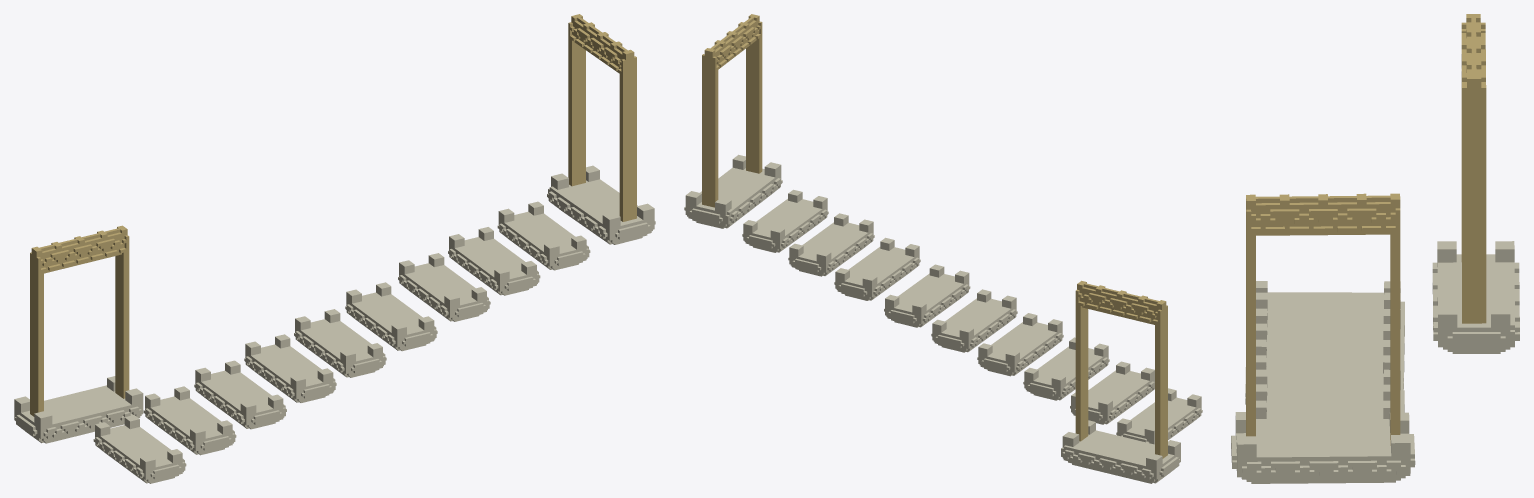
3 renders of one model, left to right at view 1: azimuth 30°, elevation 25°; view 2: azimuth 150°, elevation 25°; view 3: azimuth 270°, elevation 25°, orthographic. The views are drawn at different scales.
Visible parts, largest first — view 1: 台阶_门框002, 台阶_门框, default004, default006, default010, default005, default008, default007, default003, default009, default034; view 2: 台阶_门框002, 台阶_门框, default007, default009, default010, default008, default005, default006, default003, default004, default034; view 3: 台阶_门框, 台阶_门框002, default003, default005, default006, default009, default004, default008, default007, default010, default034.
Boxes of the visible parts, <box> form: 台阶_门框002: <box>14,225,143,443</box>; 台阶_门框: <box>547,14,655,244</box>; default004: <box>194,360,286,429</box>; default006: <box>294,309,386,377</box>; default010: <box>497,201,590,270</box>; default005: <box>244,334,336,402</box>; default008: <box>398,253,490,321</box>; default007: <box>345,282,437,351</box>; default003: <box>143,386,236,455</box>; default009: <box>448,227,540,295</box>; default034: <box>93,415,186,483</box>; 台阶_门框002: <box>1061,280,1180,483</box>; 台阶_门框: <box>684,14,782,228</box>; default007: <box>884,264,970,327</box>; default009: <box>788,213,874,276</box>; default010: <box>742,189,828,252</box>; default008: <box>834,237,920,300</box>; default005: <box>977,313,1063,376</box>; default006: <box>931,289,1017,352</box>; default003: <box>1070,361,1154,424</box>; default004: <box>1023,337,1109,400</box>; default034: <box>1116,388,1202,444</box>; 台阶_门框: <box>1231,193,1415,483</box>; 台阶_门框002: <box>1432,14,1519,353</box>; default003: <box>1256,292,1404,336</box>; default005: <box>1256,323,1404,371</box>; default006: <box>1245,339,1403,388</box>; default009: <box>1256,384,1404,412</box>; default004: <box>1256,308,1404,354</box>; default008: <box>1256,369,1404,412</box>; default007: <box>1245,355,1403,404</box>; default010: <box>1256,400,1390,424</box>; default034: <box>1256,281,1404,313</box>.
Size of the model in its own units: 102 by 56.1 by 31.58.
